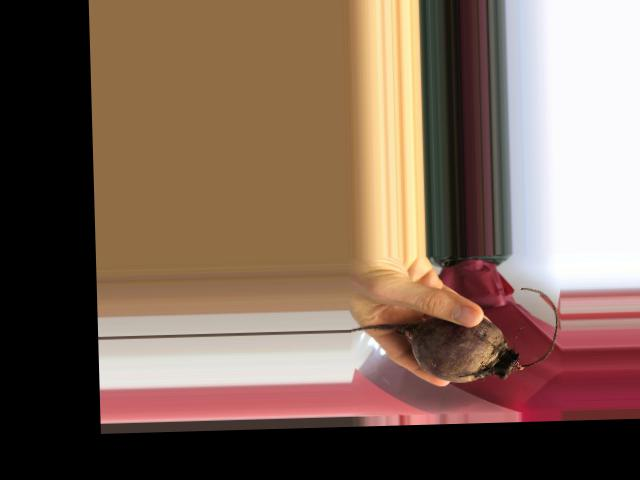beet: (349, 286, 560, 385)
